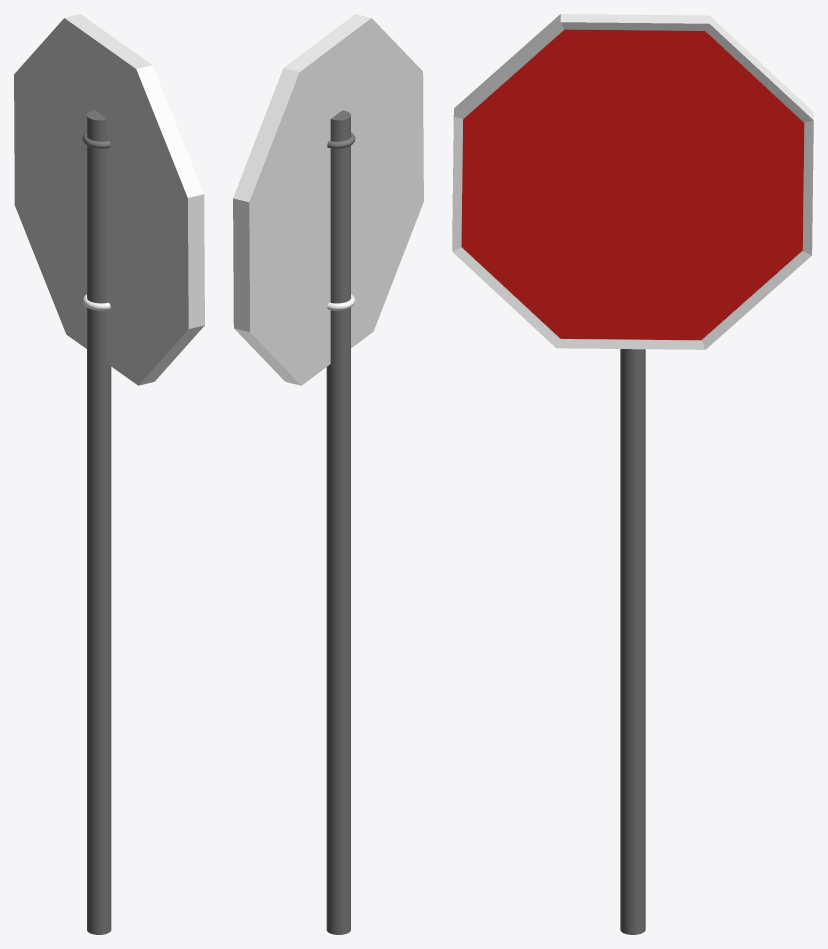
The model's file is StopSign.fbx.
3 views of the same model, side by side, from view 1: azimuth 30°, elevation 25°; view 2: azimuth 150°, elevation 25°; view 3: azimuth 270°, elevation 25° (orthographic). The views are drawn at different scales.
Visible parts, largest first — view 1: stopsign; view 2: stopsign; view 3: stopsign.
Boxes of the visible parts, <box> form: stopsign: <box>14,14,204,934</box>; stopsign: <box>233,14,423,934</box>; stopsign: <box>452,14,813,934</box>.
Bounding box in the file's own units: 17.07 × 445 × 159.
Materials: 3 (3 with a texture image).
